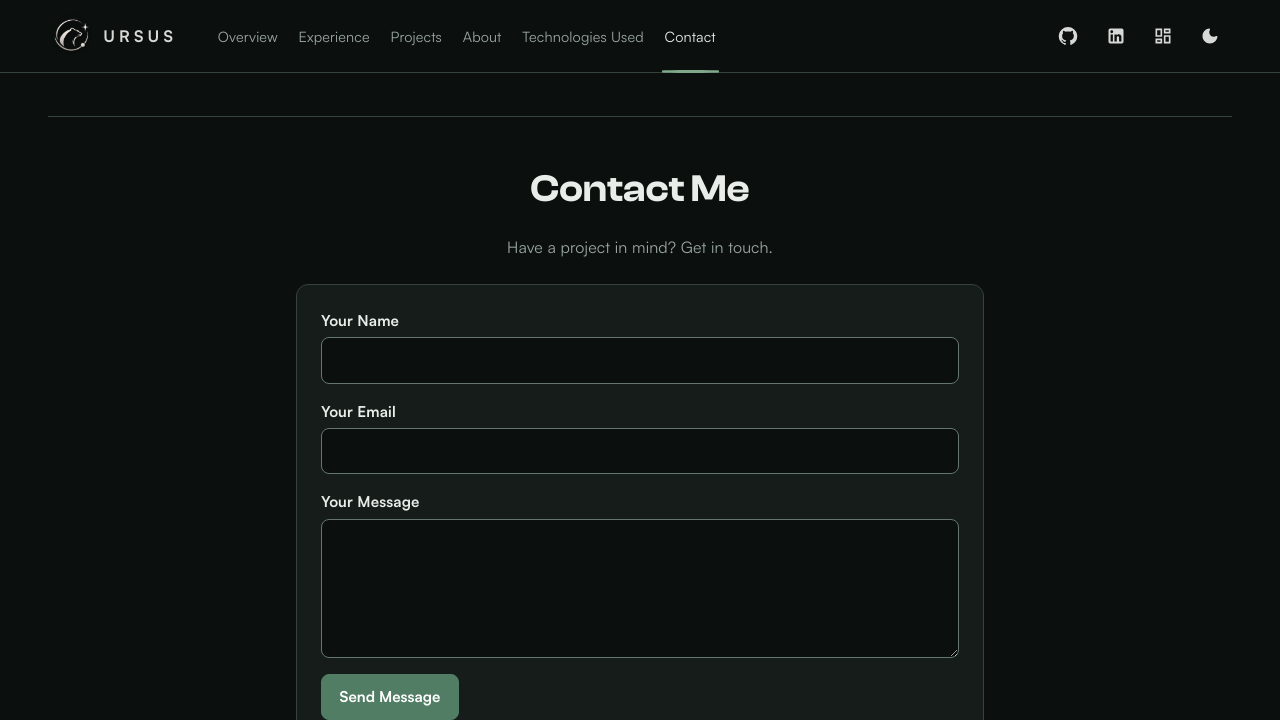
it: contact submits the original form fields and reports success
The width and height of the screenshot is (1280, 720).
(page scrolled)
In the field labelled "Your Name": (640, 360) [321,338,959,384], type "Test visitor"
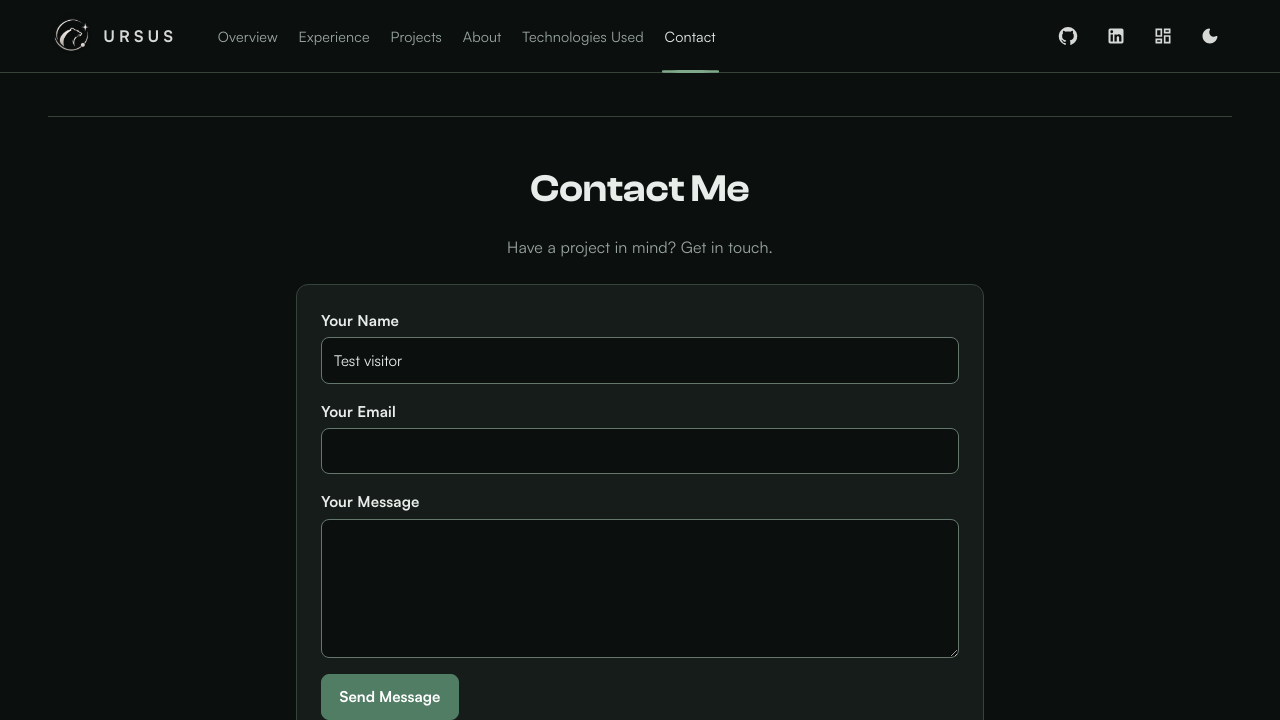
In the field labelled "Your Email": (640, 451) [321,428,959,474], type "visitor@example.com"
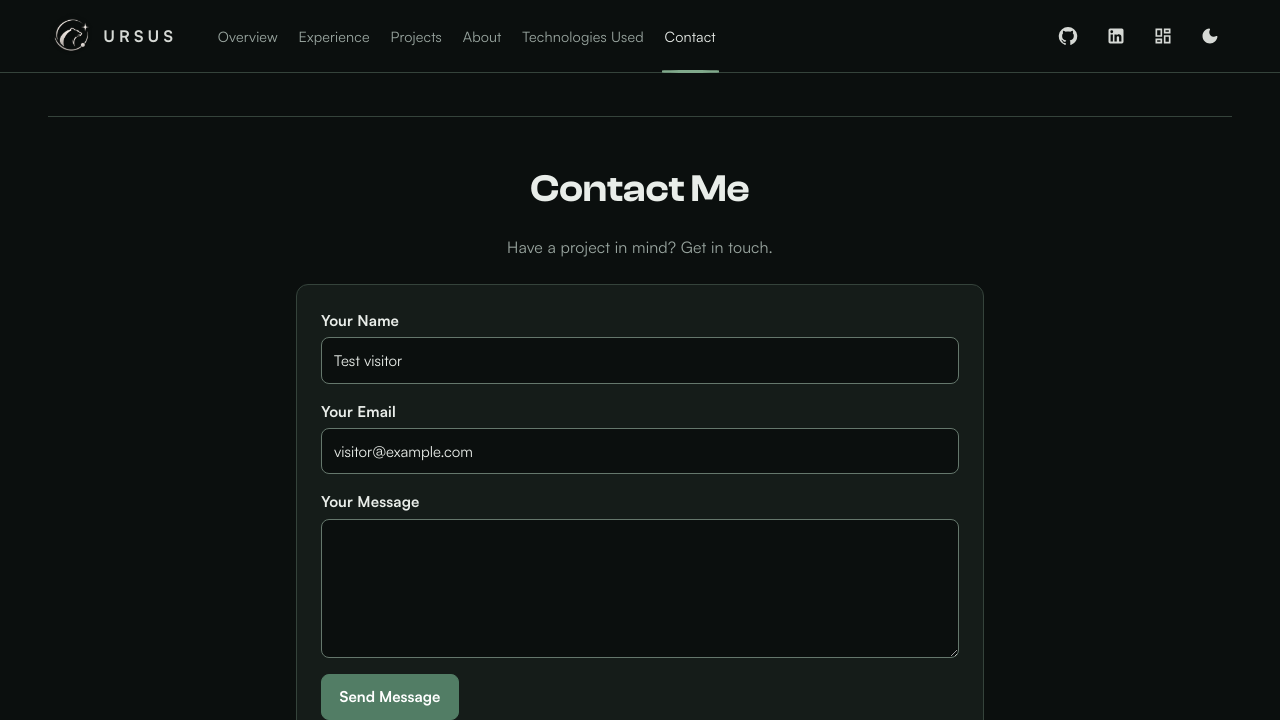
In the text box labelled "Your Message": (640, 589) [321,519,959,658], type "Test message"
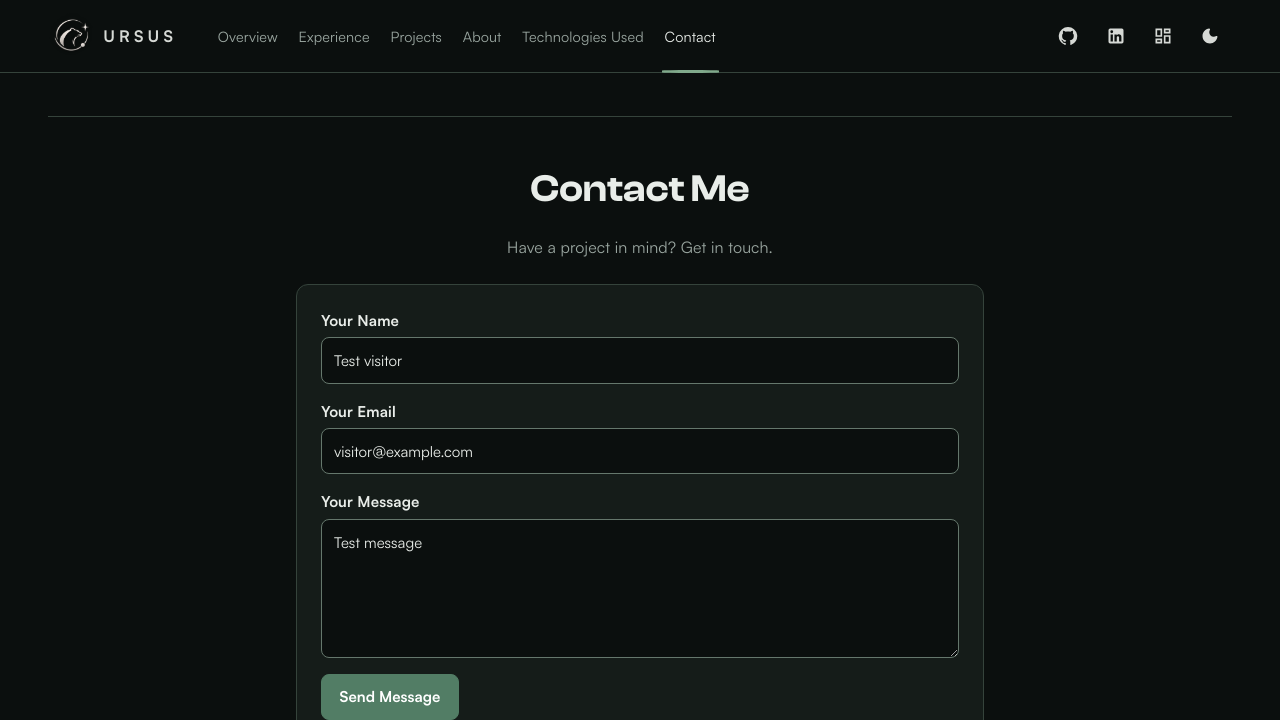
Click the button "Send Message": (390, 697) [321,674,459,719]
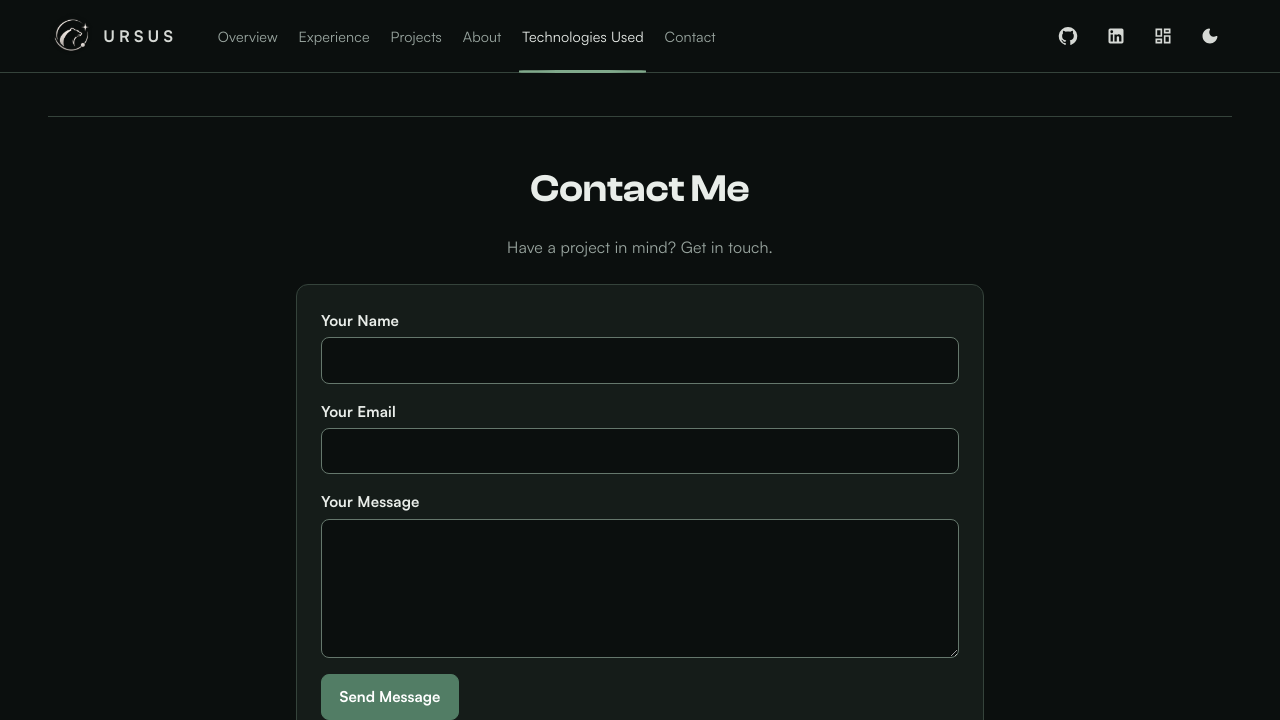
expect the text box labelled "Your Message" is empty: met, box [321,519,959,658]
